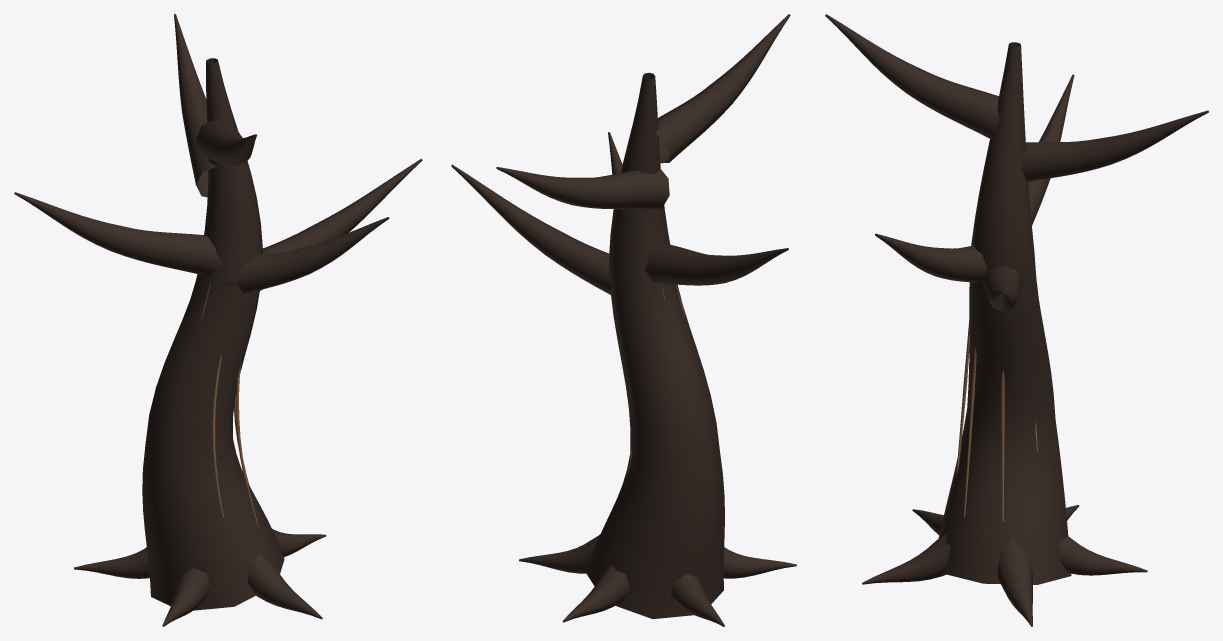
The model's file is tree_trunk.glb.
The picture shows the model from 3 angles, left to right: view 1: azimuth 30°, elevation 25°; view 2: azimuth 150°, elevation 25°; view 3: azimuth 270°, elevation 25°; orthographic projection. The views are drawn at different scales.
Visible parts, largest first — view 1: tree_trunk; view 2: tree_trunk; view 3: tree_trunk.
Part boxes in pixels (bbox=[...]): tree_trunk: bbox=[14, 14, 422, 626]; tree_trunk: bbox=[451, 14, 796, 626]; tree_trunk: bbox=[825, 14, 1208, 626].
Size of the model in its own units: 4.1 by 5.57 by 3.58.
